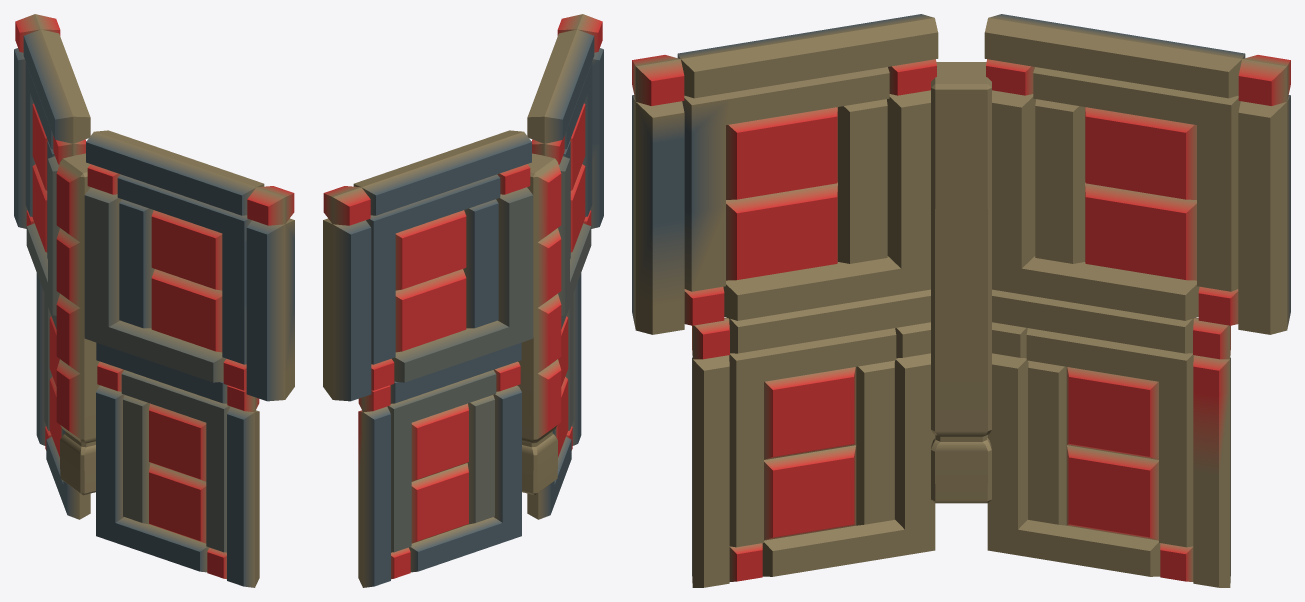
The model's file is ENV_Relic_01_Butterfly_01_ColorVariant.fbx.
The picture shows the model from 3 angles, left to right: view 1: azimuth 30°, elevation 25°; view 2: azimuth 150°, elevation 25°; view 3: azimuth 270°, elevation 25°; orthographic projection. The views are drawn at different scales.
Visible parts, largest first — view 1: ENV_Relic_01_Butterfly_01_ColorVariant; view 2: ENV_Relic_01_Butterfly_01_ColorVariant; view 3: ENV_Relic_01_Butterfly_01_ColorVariant.
Boxes of the visible parts, box(x1,y1,x2,y2) form: ENV_Relic_01_Butterfly_01_ColorVariant: box(14, 14, 294, 587); ENV_Relic_01_Butterfly_01_ColorVariant: box(323, 14, 603, 587); ENV_Relic_01_Butterfly_01_ColorVariant: box(632, 14, 1290, 587).
Bounding box in the file's own units: 46.6 × 159 × 180.
